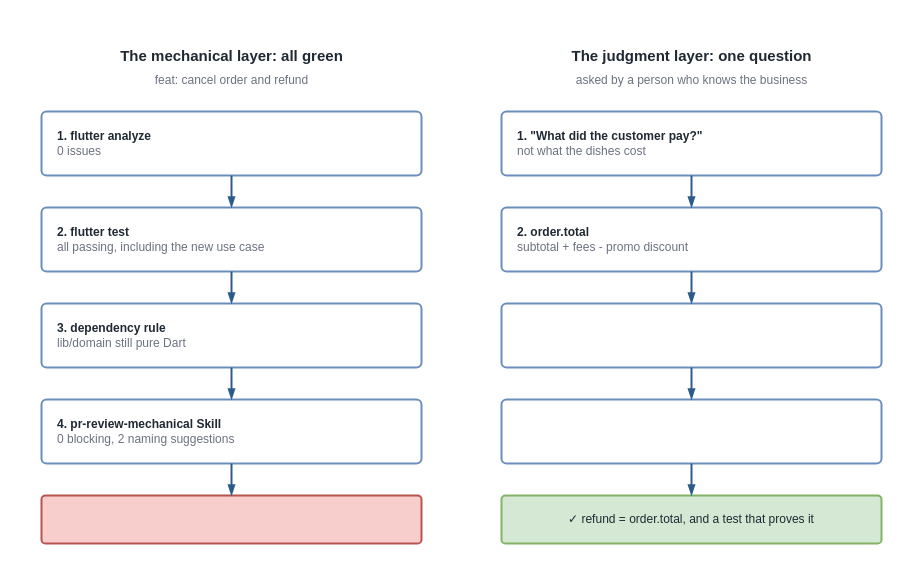
This 922x584 diagram has some shape labels left out. Each missing label, with the box of its shape:
3. A test for a promo order refund equals what was charged: (500, 302, 882, 368)
4. A named reviewer approves someone is accountable for the rule: (500, 398, 882, 464)
✗ Merged: refund = order.subtotal: (40, 494, 422, 544)
